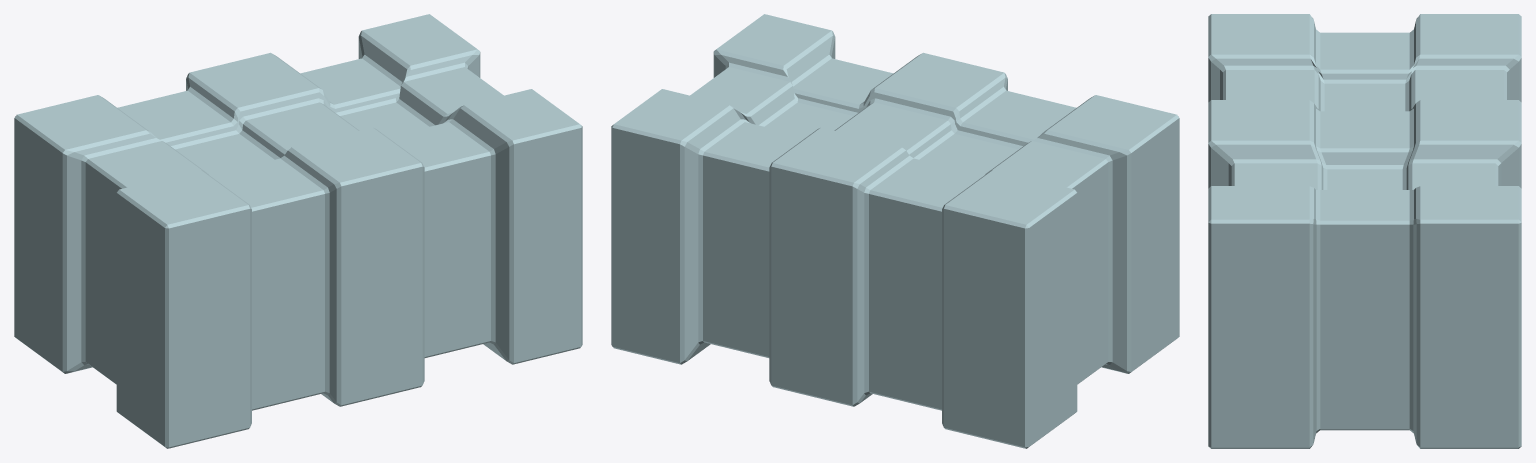
3 renders of one model, left to right at view 1: azimuth 30°, elevation 25°; view 2: azimuth 150°, elevation 25°; view 3: azimuth 270°, elevation 25°, orthographic. The views are drawn at different scales.
Parts seen in each view (by area): view 1: Mt 3; view 2: Mt 3; view 3: Mt 3.
Boxes of the visible parts, x1=… form: Mt 3: x1=14, y1=14, x2=582, y2=448; Mt 3: x1=611, y1=14, x2=1179, y2=448; Mt 3: x1=1208, y1=14, x2=1521, y2=448.
Size of the model in its own units: 78.71 by 40.37 by 50.07.
